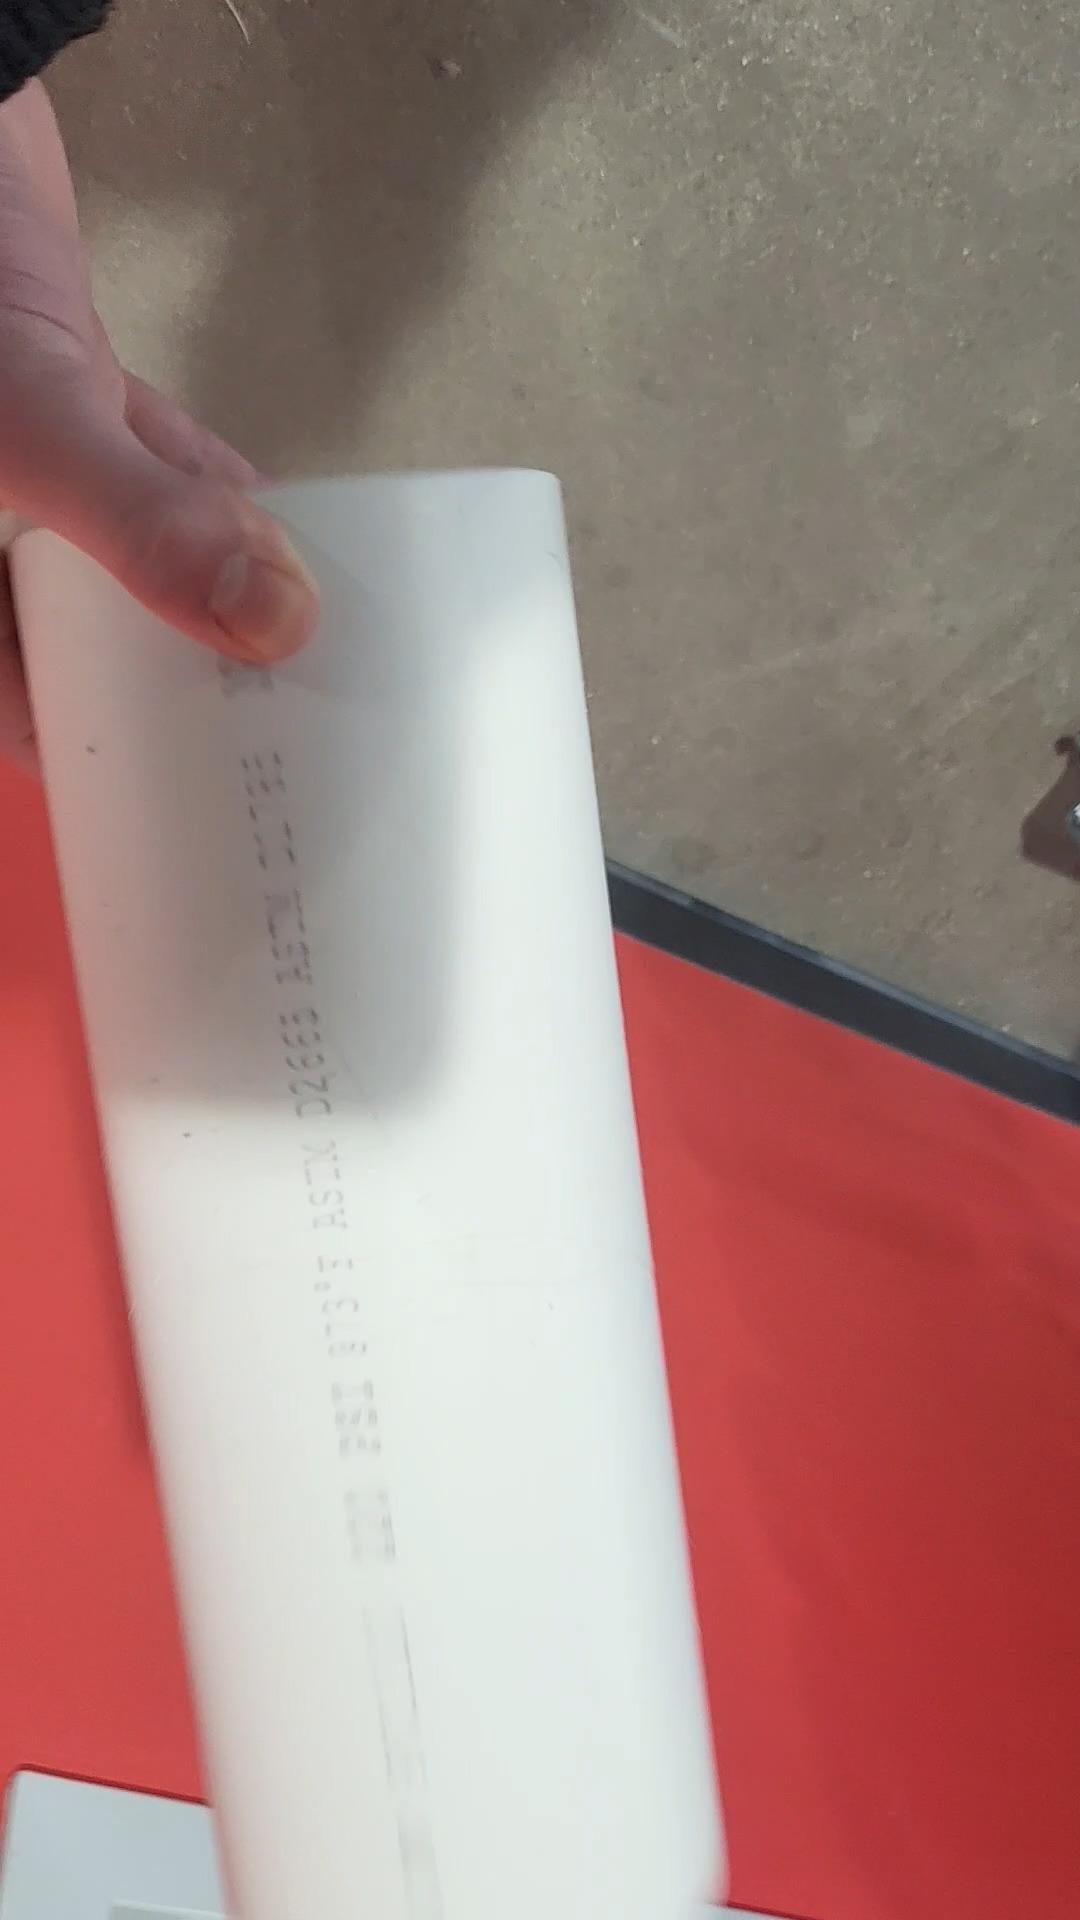coral: (15, 468, 723, 1920)
